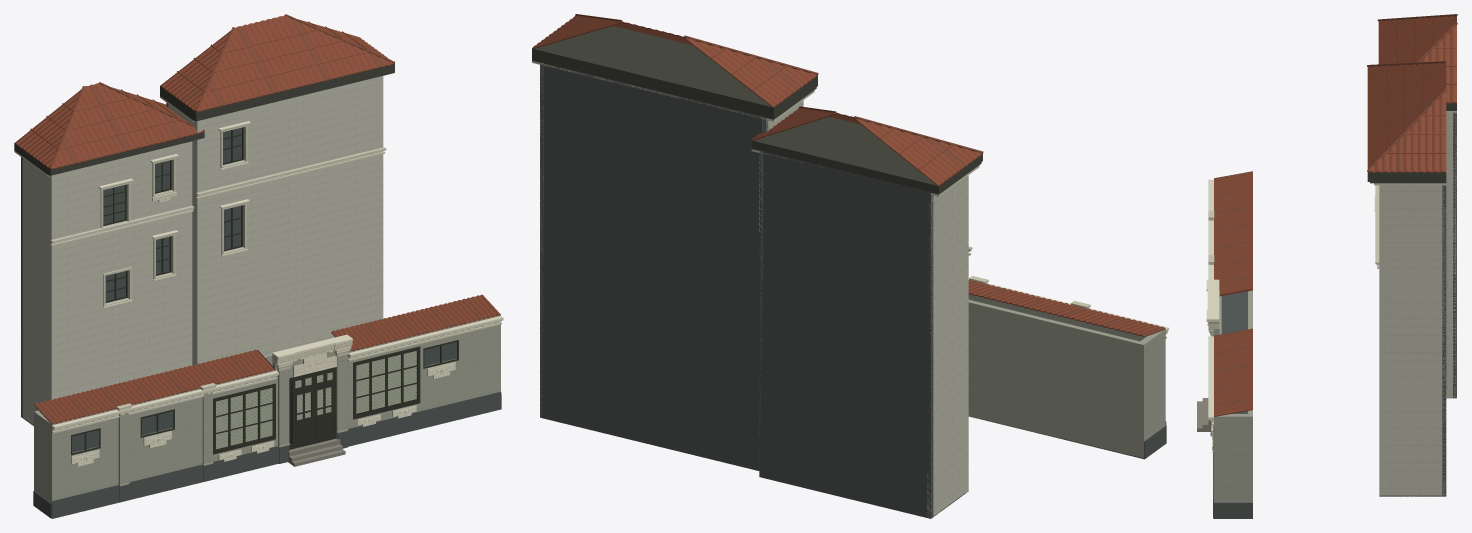
File: xuhui-kangping-196-shuttered-residence-lod.glb
The picture shows the model from 3 angles, left to right: view 1: azimuth 30°, elevation 25°; view 2: azimuth 150°, elevation 25°; view 3: azimuth 270°, elevation 25°; orthographic projection. The views are drawn at different scales.
Visible parts, largest first — view 1: 康平路196号住宅百叶窗与灰塑; view 2: 康平路196号住宅百叶窗与灰塑; view 3: 康平路196号住宅百叶窗与灰塑.
Part boxes in pixels (x1,y1,x2,y2): 康平路196号住宅百叶窗与灰塑: (14,14,503,518); 康平路196号住宅百叶窗与灰塑: (532,14,1168,518); 康平路196号住宅百叶窗与灰塑: (1197,14,1457,518).
Size of the model in its own units: 19.38 by 14.1 by 8.96.
15 materials, 2 textured.
